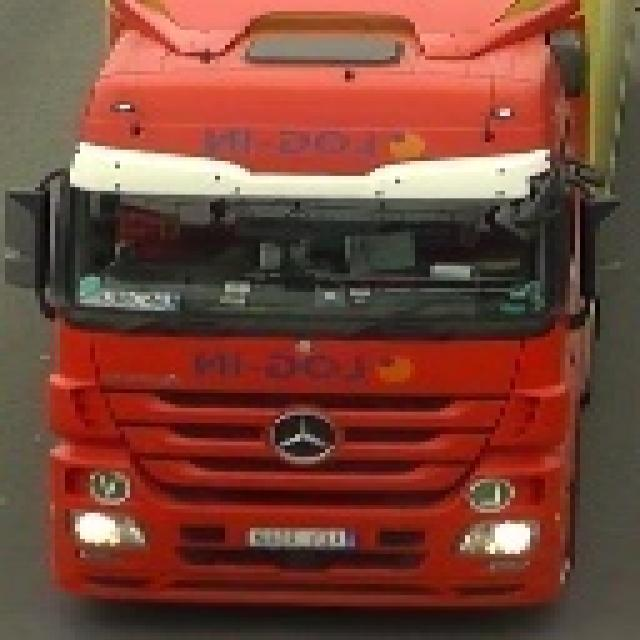truck: (0, 0, 605, 606)
